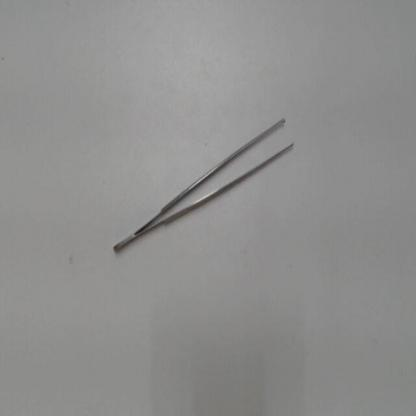Gillies Toothed Dissector: (104, 108, 307, 266)
